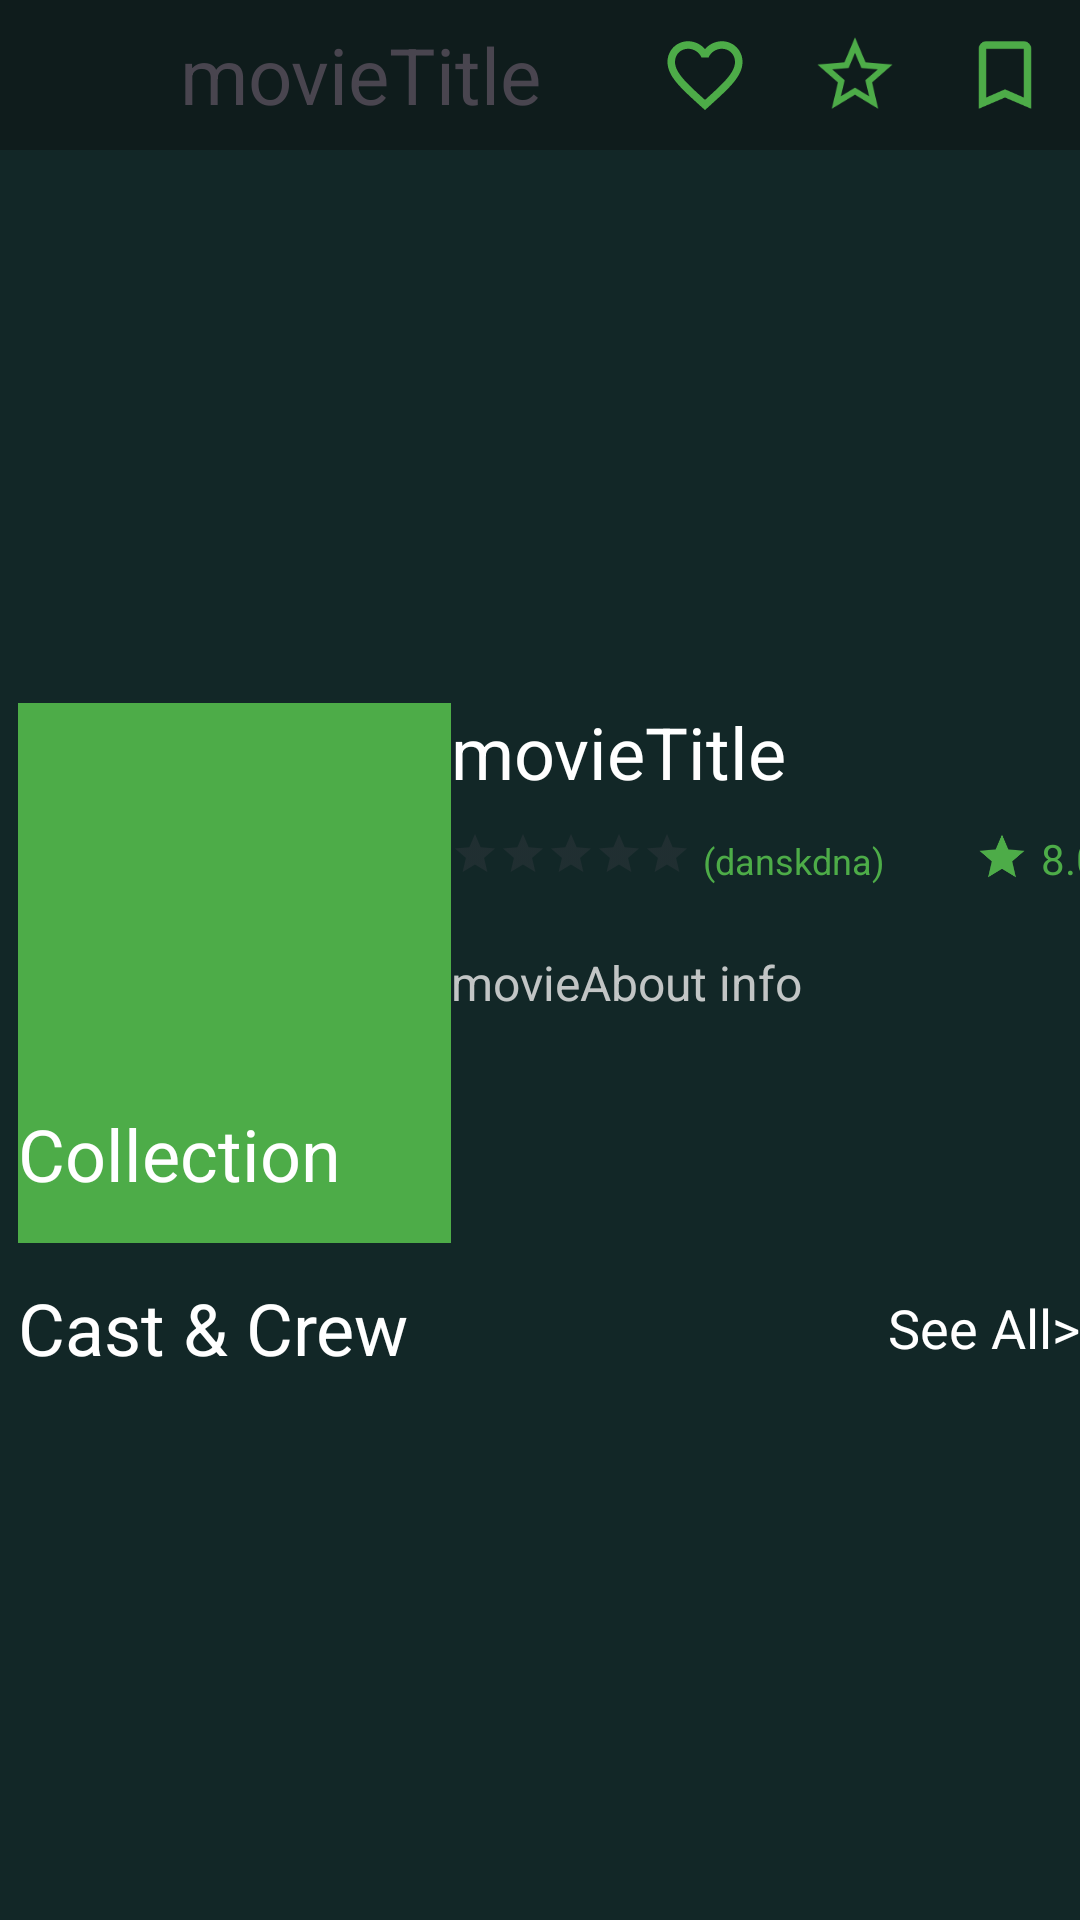

Screen size 1080w x 1920h. Icon name, then its box in pixels as (x1, y1, x2, y2):
bookmark border: (978, 41, 1032, 109)
favourite empty: (667, 41, 743, 110)
star: (980, 835, 1024, 877)
star border: (818, 38, 892, 109)
